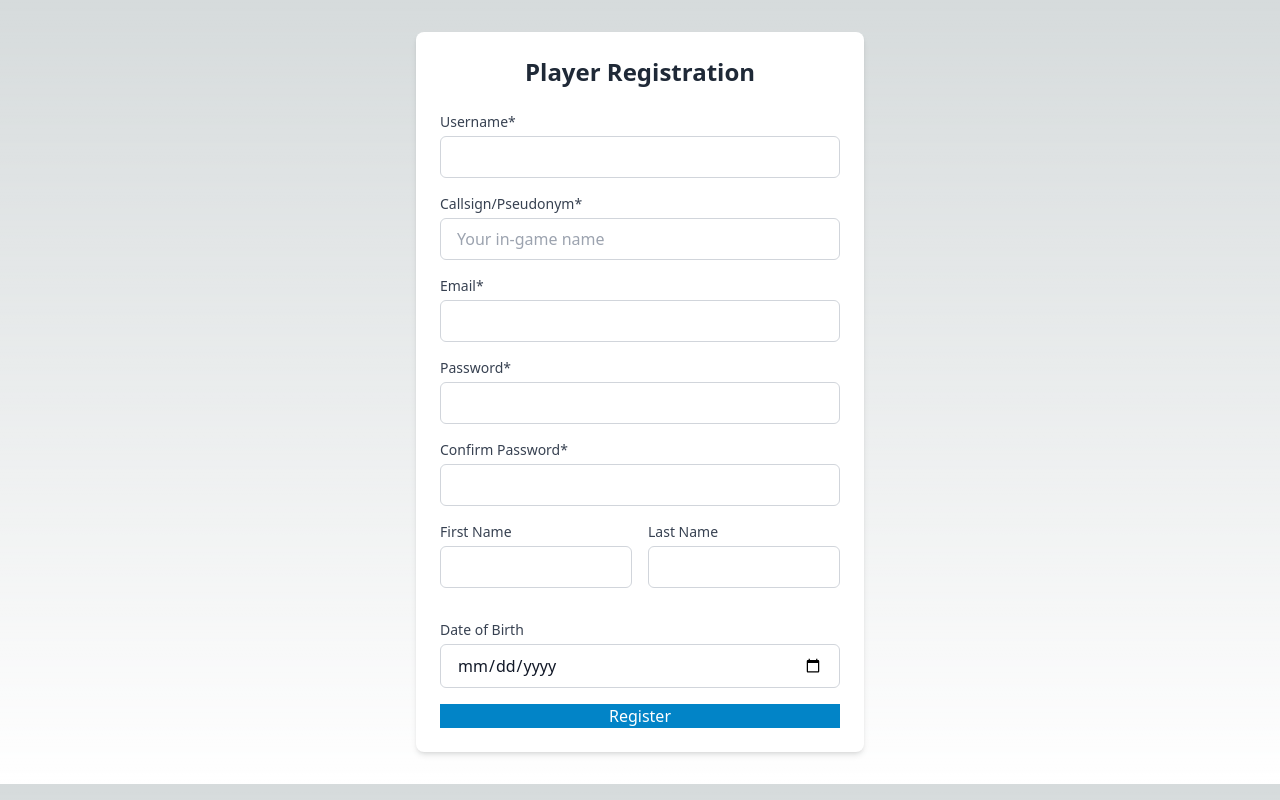
PlayerRegistration › displays general error when registration fails
// Fill out the form
In the field with test id "username-input": (640, 157) [440,136,840,178], type "testuser"
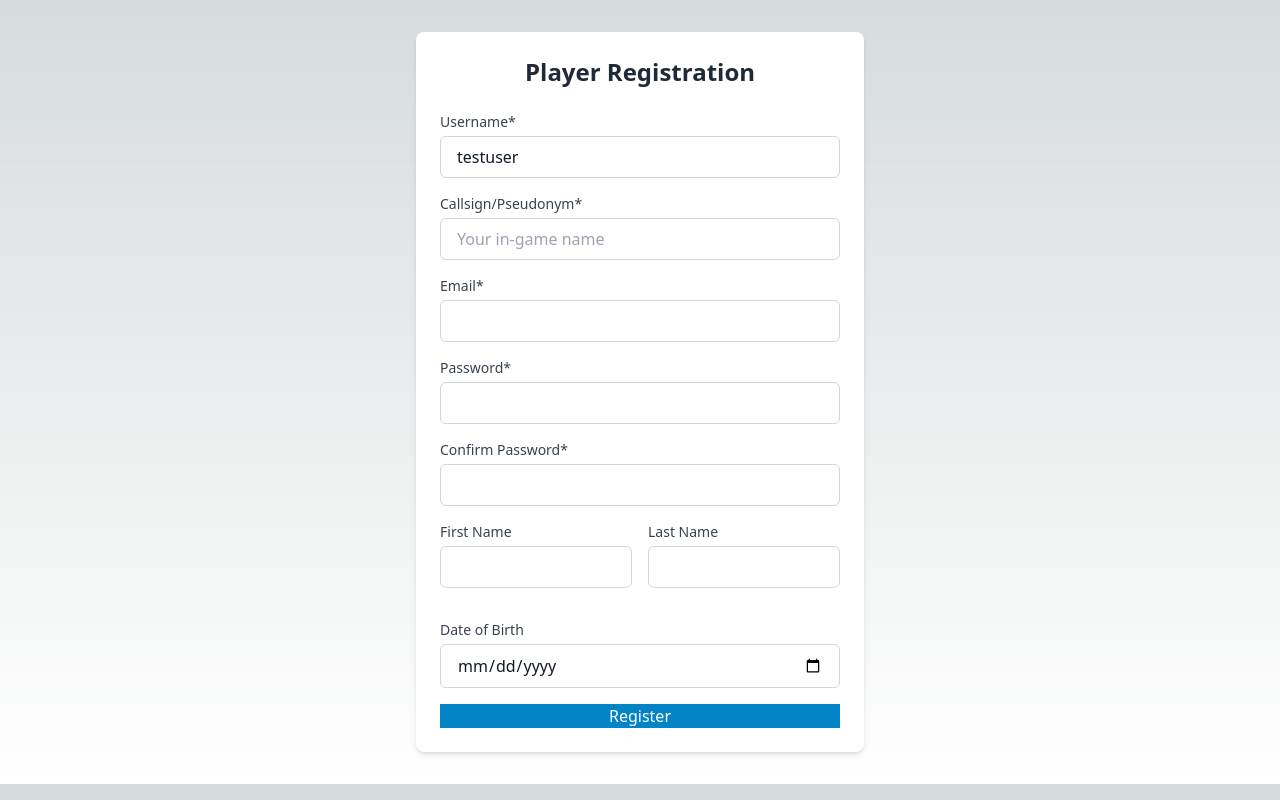
In the field with test id "callsign-input": (640, 239) [440,218,840,260], type "TestPlayer"
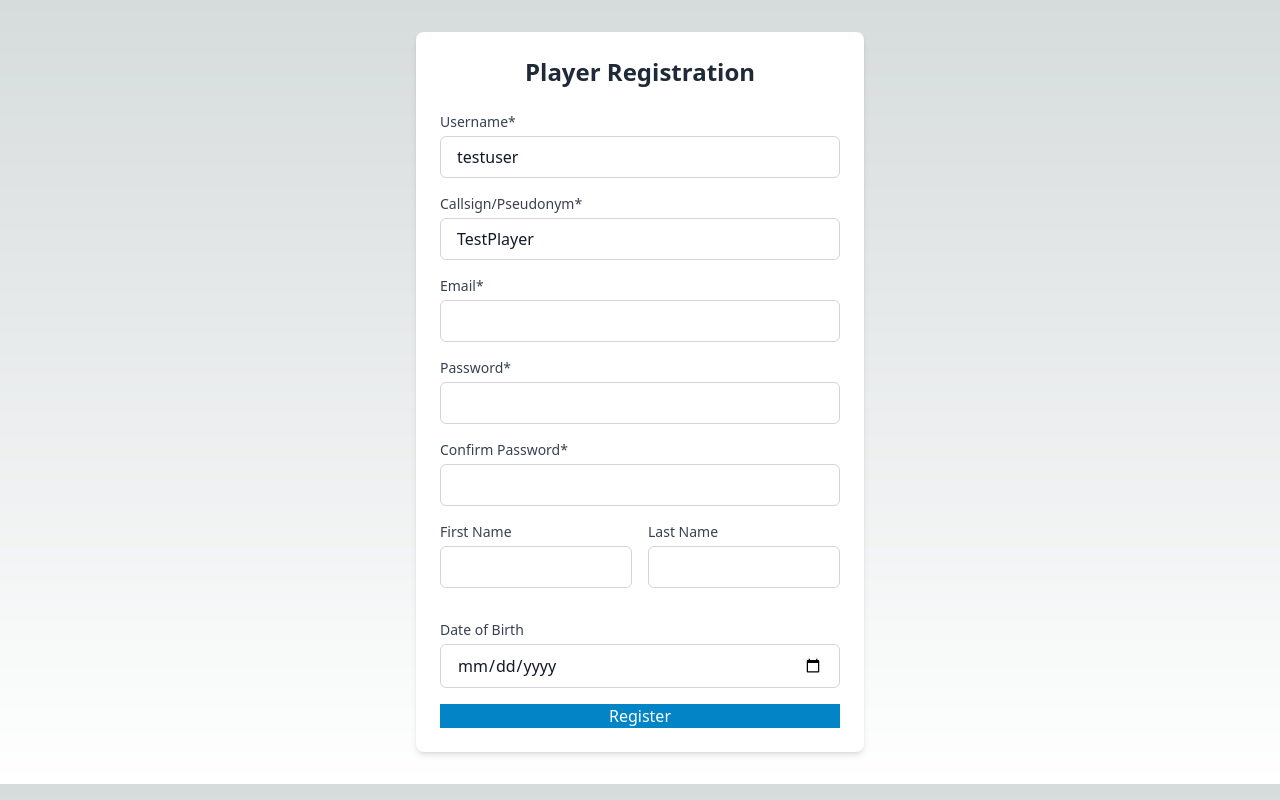
In the field with test id "email-input": (640, 321) [440,300,840,342], type "test@example.com"
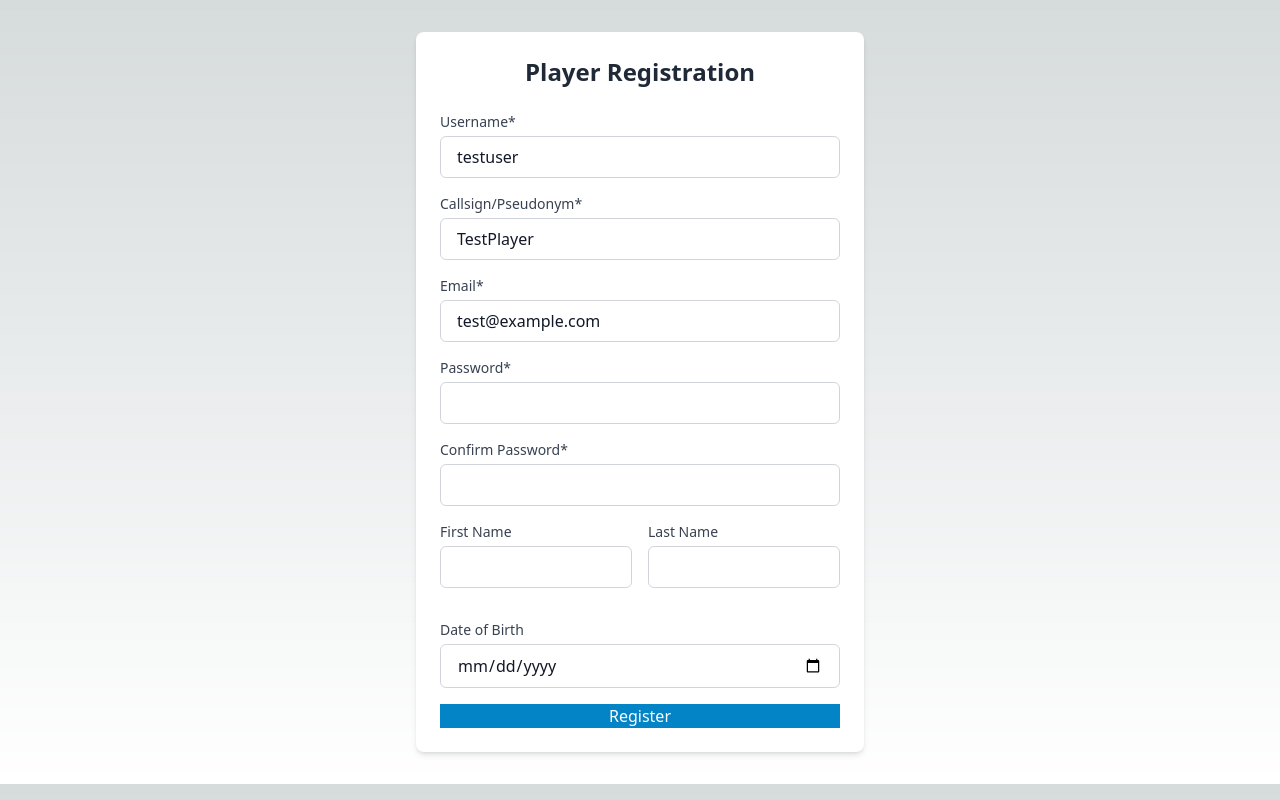
In the password field with test id "password-input": (640, 403) [440,382,840,424], type "Password123!"
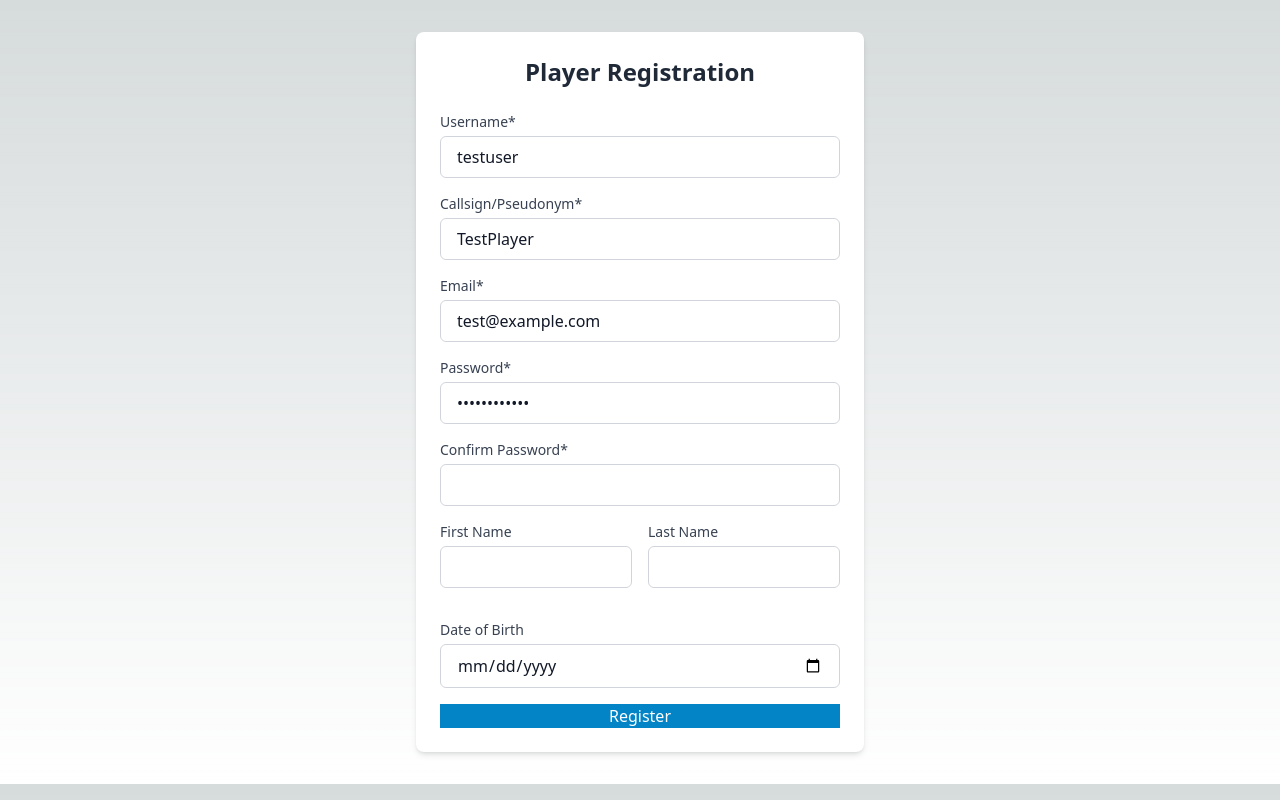
In the password field with test id "confirm-password-input": (640, 485) [440,464,840,506], type "Password123!"
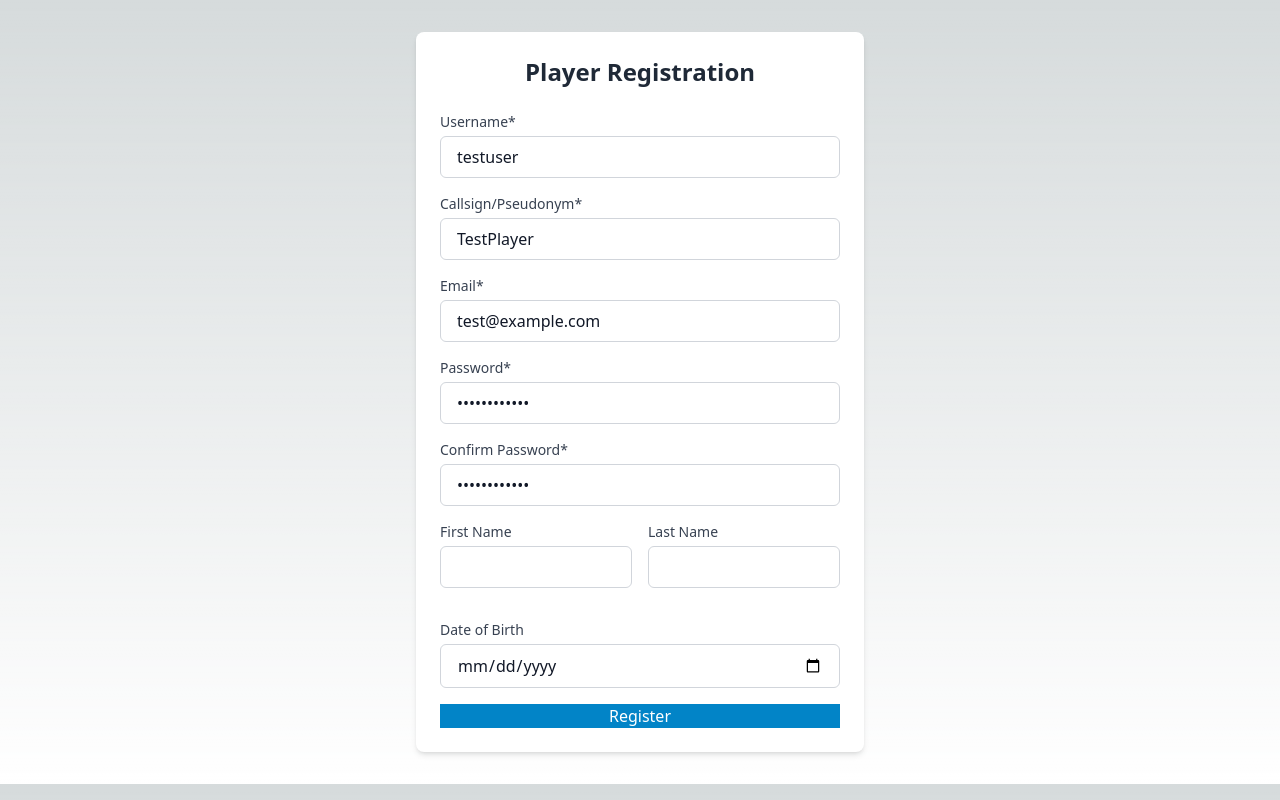
// Submit the form
Click the button with test id "register-button": (640, 716) [440,704,840,728]
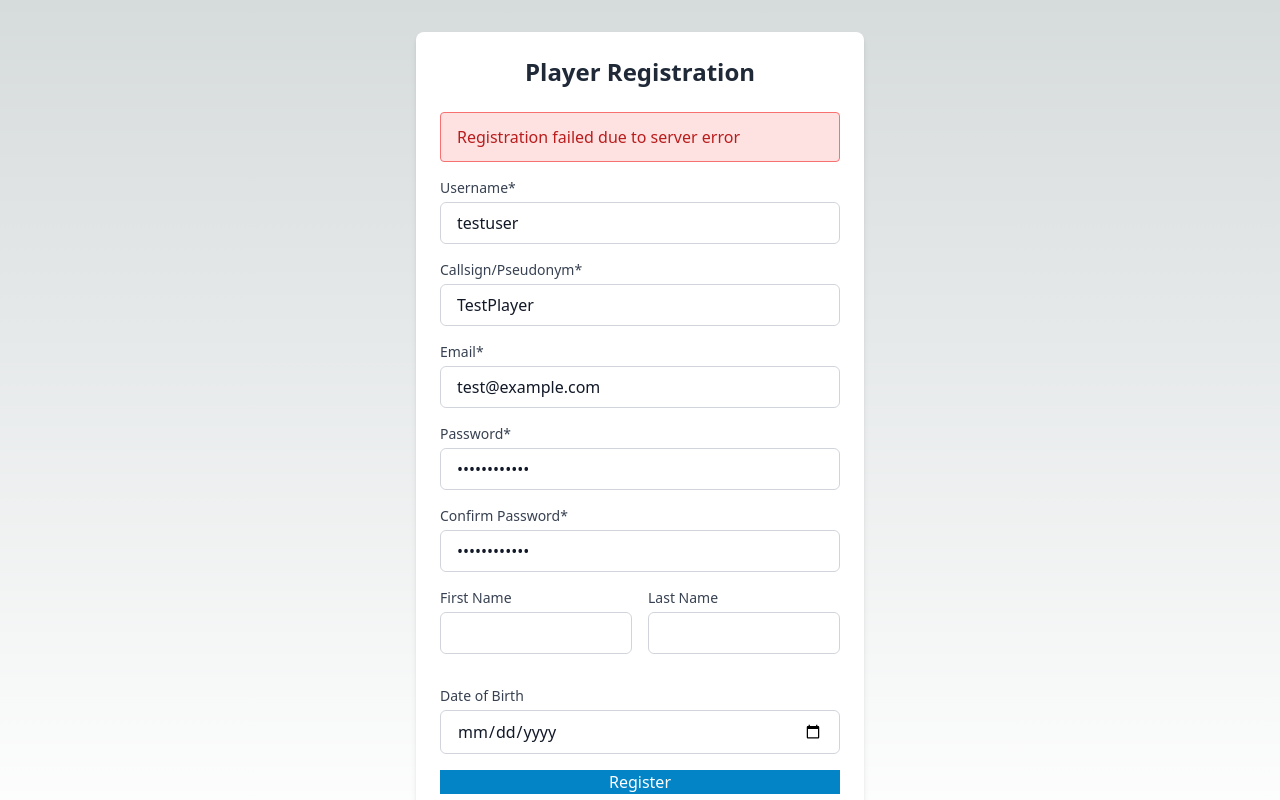
Check: the text "Registration failed due to server error" is shown, box [440,112,840,162]
Check: the text with test id "general-error" reads "Registration failed due to server error", box [457,126,740,148]
